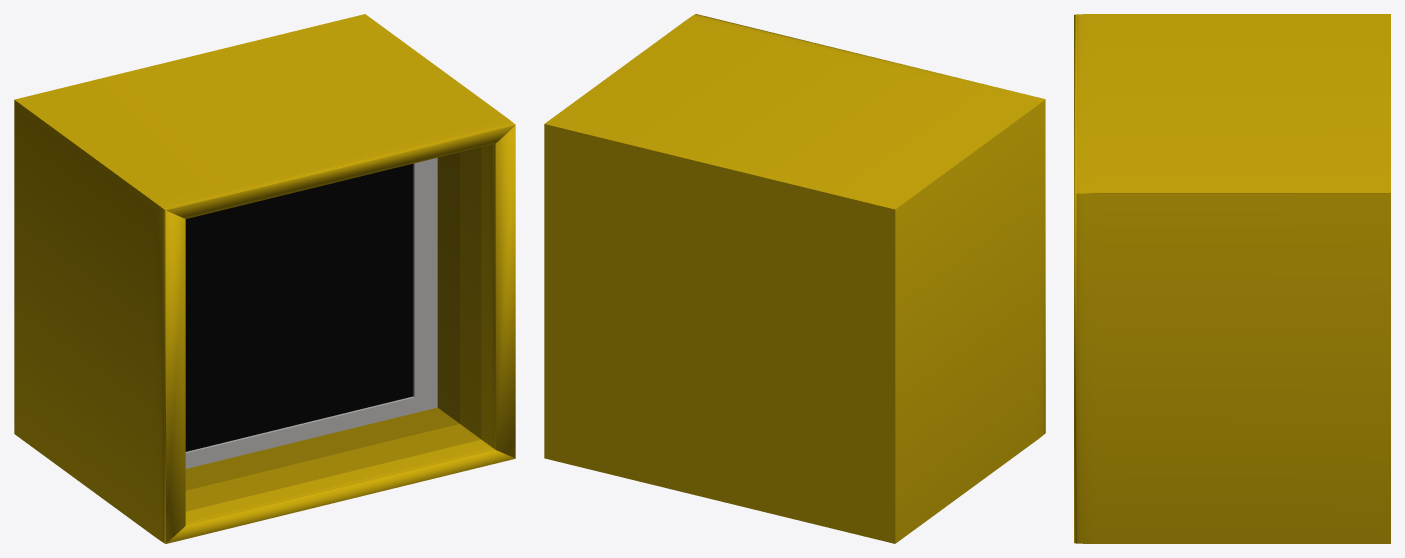
Rendered from Frame10_gold.glb.
3 views of the same model, side by side, from view 1: azimuth 30°, elevation 25°; view 2: azimuth 150°, elevation 25°; view 3: azimuth 270°, elevation 25° (orthographic). The views are drawn at different scales.
Visible parts, largest first — view 1: Box046_Material #25_0, Box046_Material #26_0, A_PaintingMesh, Box046_Frame_0; view 2: Box046_Material #25_0; view 3: Box046_Material #25_0.
Part boxes in pixels (x1,y1,x2,y2): Box046_Material #25_0: [14, 14, 515, 543]; Box046_Material #26_0: [186, 148, 480, 510]; A_PaintingMesh: [185, 164, 413, 451]; Box046_Frame_0: [185, 157, 437, 468]; Box046_Material #25_0: [544, 14, 1045, 543]; Box046_Material #25_0: [1074, 14, 1390, 543].
Size of the model in its own units: 1.34 by 1.22 by 1.
Materials: 4 (1 with a texture image).
